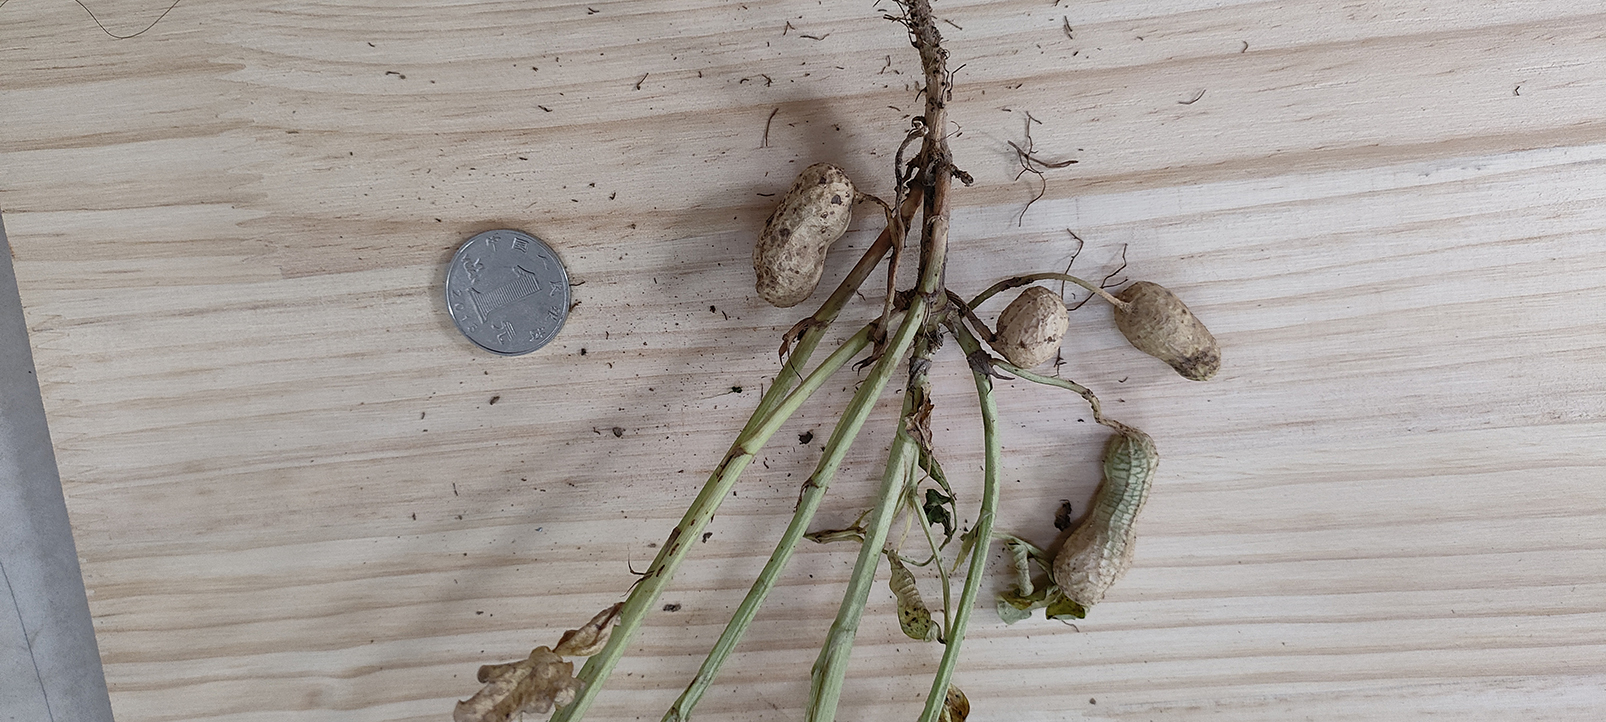h: (1050, 427, 1158, 607), (755, 162, 853, 303), (1116, 281, 1221, 383), (998, 286, 1070, 372)
